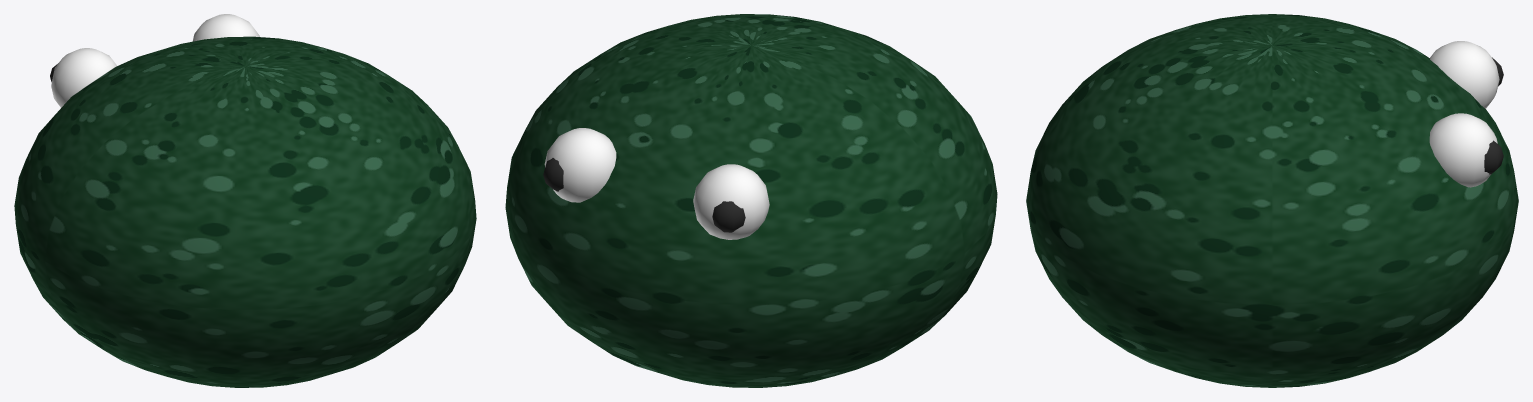
The model's file is gloom-ooze.glb.
The picture shows the model from 3 angles, left to right: view 1: azimuth 30°, elevation 25°; view 2: azimuth 150°, elevation 25°; view 3: azimuth 270°, elevation 25°; orthographic projection. The views are drawn at different scales.
Parts seen in each view (by area): view 1: Body, Eye, Eye.001; view 2: Body, Eye, Eye.001, Pupil, Pupil.001; view 3: Body, Eye.001, Eye, Pupil.001.
Part boxes in pixels (x1,y1,x2,y2): Body: (14, 36, 476, 387); Eye: (51, 48, 116, 107); Eye.001: (192, 14, 259, 41); Body: (505, 14, 997, 387); Eye: (693, 164, 769, 239); Eye.001: (544, 128, 616, 202); Pupil: (712, 201, 745, 232); Pupil.001: (543, 158, 563, 191); Body: (1026, 14, 1518, 387); Eye.001: (1429, 113, 1497, 187); Eye: (1429, 41, 1499, 108); Pupil.001: (1484, 140, 1503, 174).
Size of the model in its own units: 1.44 by 1 by 1.44.
3 materials, 1 textured.
